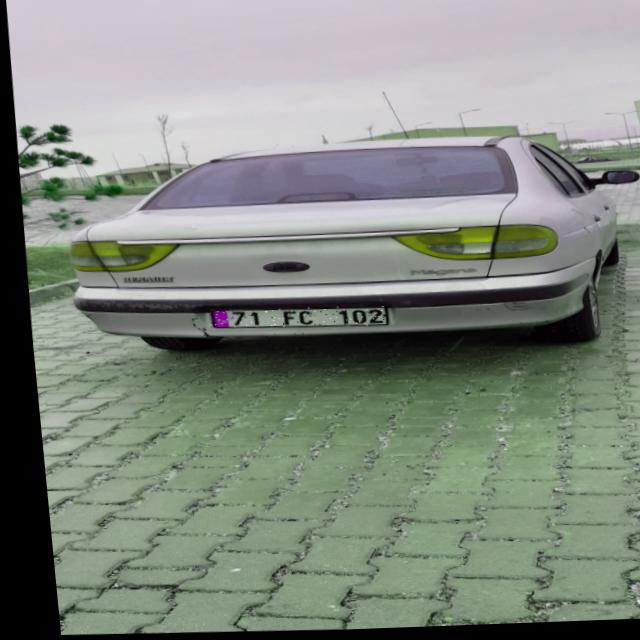license_plate: (202, 305, 383, 332)
